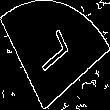L_SW: (34, 28, 76, 82)
